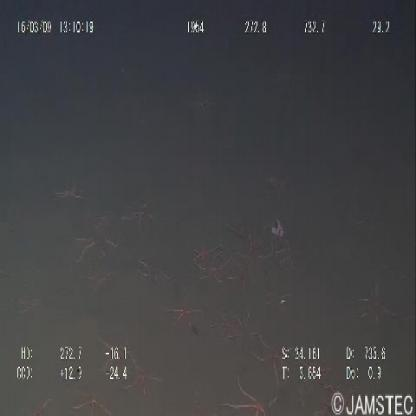Bio: (191, 233, 232, 288), (222, 373, 269, 416), (165, 288, 202, 331), (126, 354, 161, 399), (218, 305, 255, 344), (237, 234, 272, 273)
